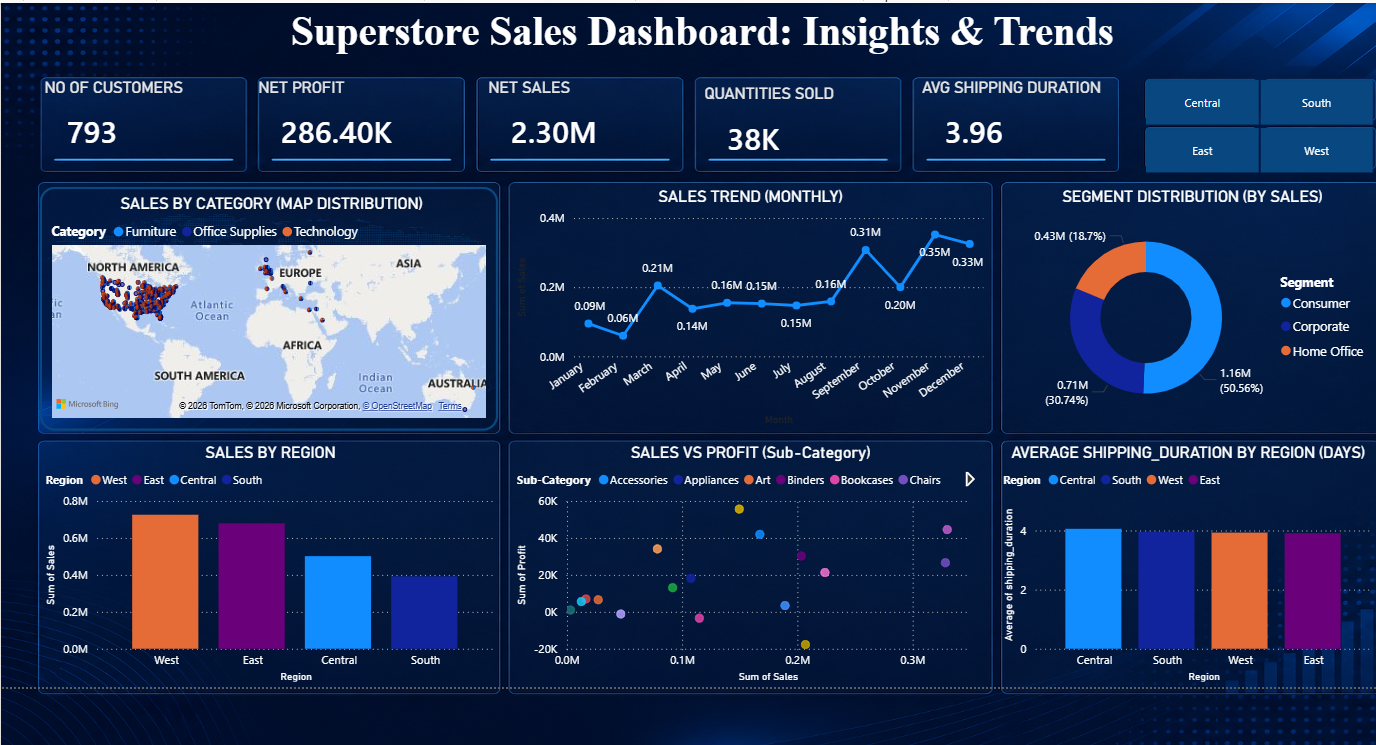

This screenshot's page, from the dashboard's own definition file:
{"tool":"powerbi","page":{"name":"Page 2","canvas":[1448,720],"ordinal":0},"visuals":[{"type":"cardVisual","title":"NO OF CUSTOMERS","fields":{"Data":["Count(Sample - Superstore.Customer ID)"]},"box":[40.8,78.9,215.7,89.4],"z":0},{"type":"cardVisual","title":"NET PROFIT","fields":{"Data":["Sum(Sample - Superstore.Profit)"]},"box":[265.7,78.9,215.7,89.4],"z":1000},{"type":"cardVisual","title":"NET SALES","fields":{"Data":["Sum(Sample - Superstore.Sales)"]},"box":[507.7,78.9,215.7,89.4],"z":2000},{"type":"cardVisual","title":"QUANTITIES SOLD","fields":{"Data":["Sum(Sample - Superstore.Quantity)"]},"box":[735.3,85.5,214.4,89.4],"z":3000},{"type":"slicer","fields":{"Values":["Sample - Superstore.Region"]},"box":[1164.1,78.9,298.6,101.3],"z":4000},{"type":"cardVisual","title":"AVG SHIPPING DURATION","fields":{"Data":["Avg(Sample - Superstore.shipping_duration)"]},"box":[964.2,78.9,215.7,89.4],"z":5000},{"type":"map","title":"SALES BY CATEGORY (MAP DISTRIBUTION)","fields":{"Category":["Sample - Superstore.City","Sample - Superstore.Country"],"Series":["Sample - Superstore.Category"]},"box":[40.8,193.4,482.8,256.5],"z":6000},{"type":"lineChart","title":"SALES TREND (MONTHLY)","fields":{"Category":["Sample - Superstore.Order Date.Variation.Date Hierarchy.Month"],"Y":["Sum(Sample - Superstore.Sales)"]},"box":[538,193.4,501.2,256.5],"z":7000},{"type":"donutChart","title":"SEGMENT DISTRIBUTION (BY SALES)","fields":{"Category":["Sample - Superstore.Segment"],"Y":["Sum(Sample - Superstore.Sales)"]},"box":[1058.9,193.4,389.4,256.5],"z":8000},{"type":"columnChart","title":"SALES BY REGION","fields":{"Category":["Sample - Superstore.Region"],"Y":["Sum(Sample - Superstore.Sales)"],"Series":["Sample - Superstore.Region"]},"box":[42.1,463,482.8,256.5],"z":8001},{"type":"scatterChart","title":"SALES VS PROFIT (Sub-Category)","fields":{"X":["Sum(Sample - Superstore.Sales)"],"Series":["Sample - Superstore.Sub-Category"],"Y":["Sum(Sample - Superstore.Profit)"]},"box":[538,463,501.2,256.5],"z":8002},{"type":"columnChart","title":"AVERAGE SHIPPING_DURATION BY REGION (DAYS)","fields":{"Category":["Sample - Superstore.Region"],"Y":["Avg(Sample - Superstore.shipping_duration)"],"Series":["Sample - Superstore.Region"]},"box":[1049.7,463,398.6,256.5],"z":8003},{"type":"textbox","box":[40.8,0,1394.3,68.4],"z":8004}]}

Visuals, with their boxes on the page's 1448x720 design canvas (x1, y1, x2, y2). These are canvas units, not pixel positions in the 1376x745 screenshot, which may show the page scaled, cropped or inside an application window:
"NO OF CUSTOMERS" cardVisual: (x1=41, y1=79, x2=256, y2=168)
"NET PROFIT" cardVisual: (x1=266, y1=79, x2=481, y2=168)
"NET SALES" cardVisual: (x1=508, y1=79, x2=723, y2=168)
"QUANTITIES SOLD" cardVisual: (x1=735, y1=86, x2=950, y2=175)
slicer - Sample - Superstore.Region: (x1=1164, y1=79, x2=1463, y2=180)
"AVG SHIPPING DURATION" cardVisual: (x1=964, y1=79, x2=1180, y2=168)
"SALES BY CATEGORY (MAP DISTRIBUTION)" map: (x1=41, y1=193, x2=524, y2=450)
"SALES TREND (MONTHLY)" lineChart: (x1=538, y1=193, x2=1039, y2=450)
"SEGMENT DISTRIBUTION (BY SALES)" donutChart: (x1=1059, y1=193, x2=1448, y2=450)
"SALES BY REGION" columnChart: (x1=42, y1=463, x2=525, y2=720)
"SALES VS PROFIT (Sub-Category)" scatterChart: (x1=538, y1=463, x2=1039, y2=720)
"AVERAGE SHIPPING_DURATION BY REGION (DAYS)" columnChart: (x1=1050, y1=463, x2=1448, y2=720)
textbox: (x1=41, y1=0, x2=1435, y2=68)
